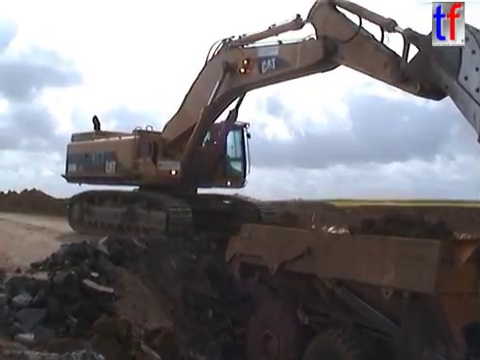excavator: (56, 1, 480, 244)
truck: (221, 203, 480, 360)
